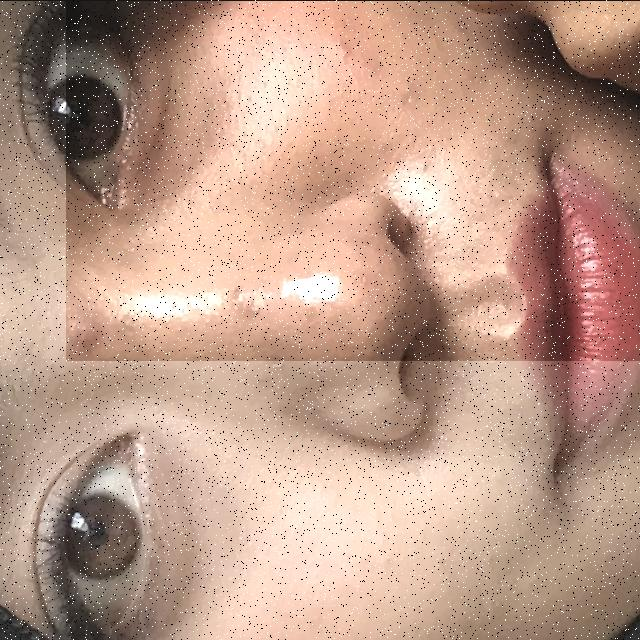telpon: (66, 0, 640, 360)
